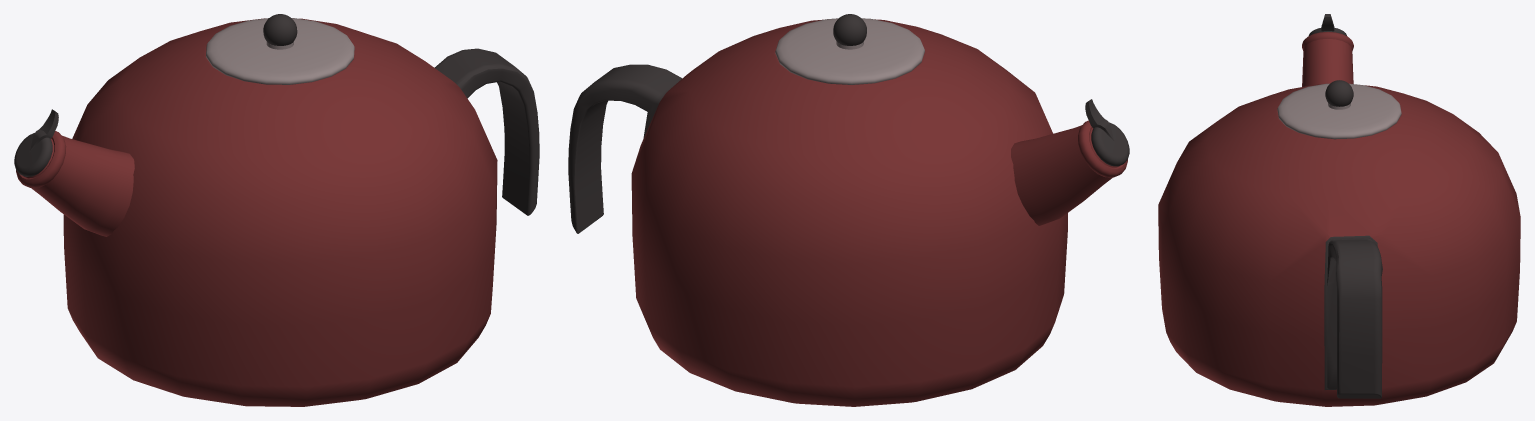
Rendered from teaKettle.fbx.
3 renders of one model, left to right at view 1: azimuth 30°, elevation 25°; view 2: azimuth 150°, elevation 25°; view 3: azimuth 270°, elevation 25°, orthographic. The views are drawn at different scales.
Visible parts, largest first — view 1: teaKettle, spout, lidTop; view 2: teaKettle, spout, lidTop; view 3: teaKettle, spout, lidTop.
Part boxes in pixels (box(x1,y1,x2,y2)): teaKettle: box(63, 18, 539, 406); spout: box(14, 109, 134, 236); lidTop: box(263, 14, 297, 45); teaKettle: box(568, 18, 1067, 406); spout: box(1011, 99, 1129, 225); lidTop: box(833, 14, 866, 45); teaKettle: box(1158, 83, 1520, 406); spout: box(1302, 14, 1353, 86); lidTop: box(1325, 80, 1353, 106).
Size of the model in its own units: 2.45 by 1.39 by 1.75.
